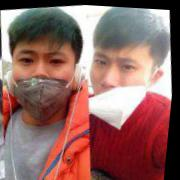WRONG: (7, 38, 88, 127), (86, 39, 158, 120)
